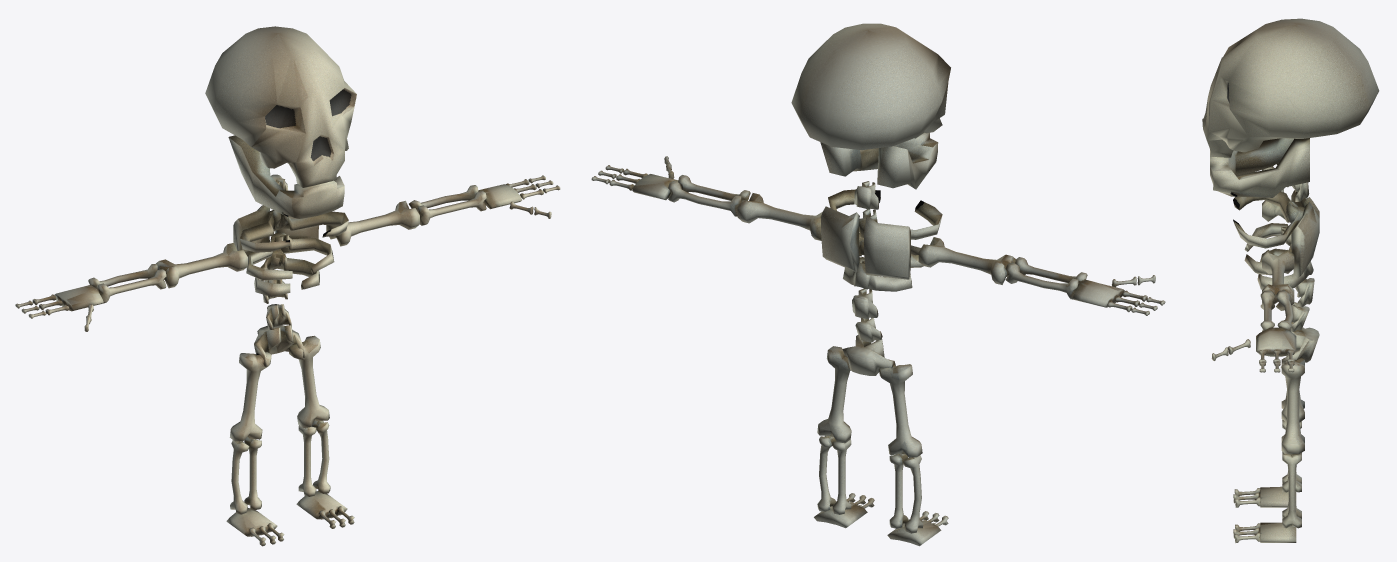
The model's file is esqueleto3.fbx.
3 renders of one model, left to right at view 1: azimuth 30°, elevation 25°; view 2: azimuth 150°, elevation 25°; view 3: azimuth 270°, elevation 25°, orthographic. The views are drawn at different scales.
Visible parts, largest first — view 1: eskeleton; view 2: eskeleton; view 3: eskeleton.
Boxes of the visible parts, bbox=[...] form: eskeleton: bbox=[15, 26, 560, 546]; eskeleton: bbox=[591, 23, 1165, 546]; eskeleton: bbox=[1202, 18, 1379, 543].
Size of the model in its own units: 110 by 95.05 by 32.23.
